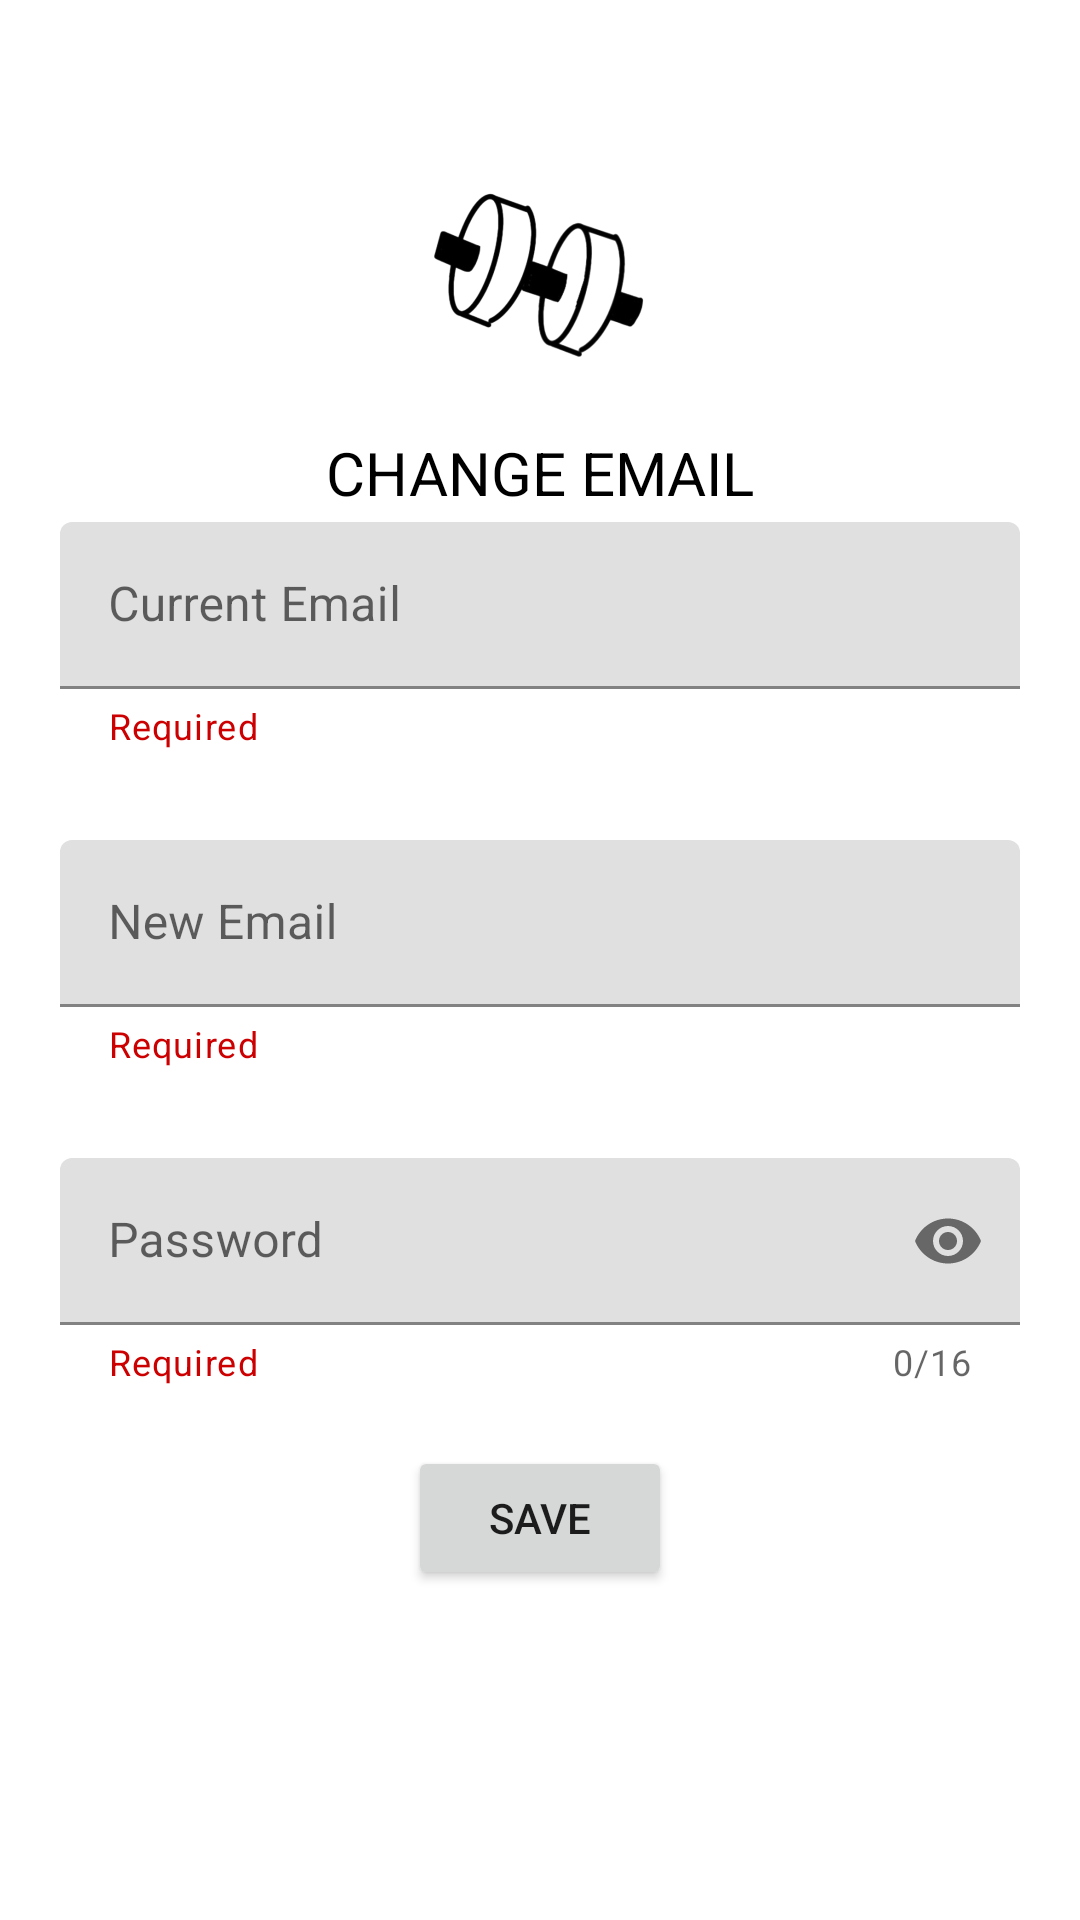

Where icons sit on this 1080px×1920px app screen, as (x1, y1, x2, y2):
App Icon: (434, 194, 643, 357)
